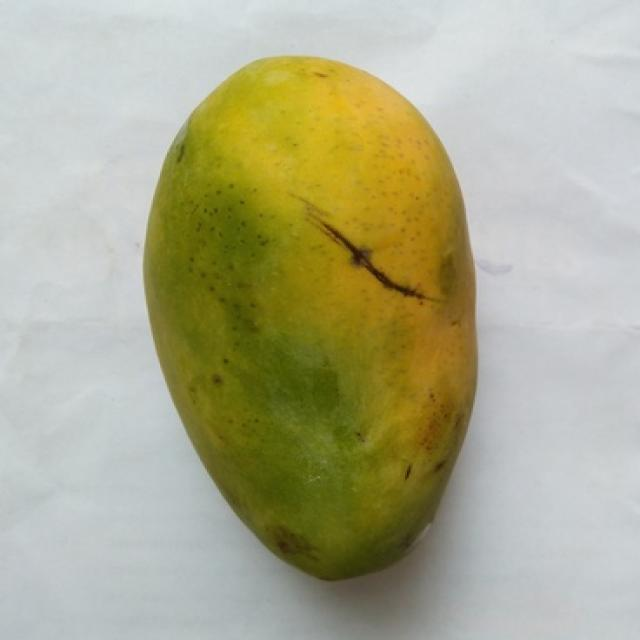Mango: (144, 57, 475, 579)
